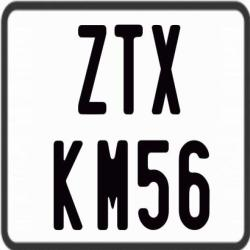5: (138, 139, 172, 229)
6: (178, 138, 210, 229)
K: (53, 139, 85, 230)
M: (96, 139, 127, 231)
T: (114, 24, 143, 115)
X: (150, 24, 181, 114)
Z: (77, 25, 107, 118)
